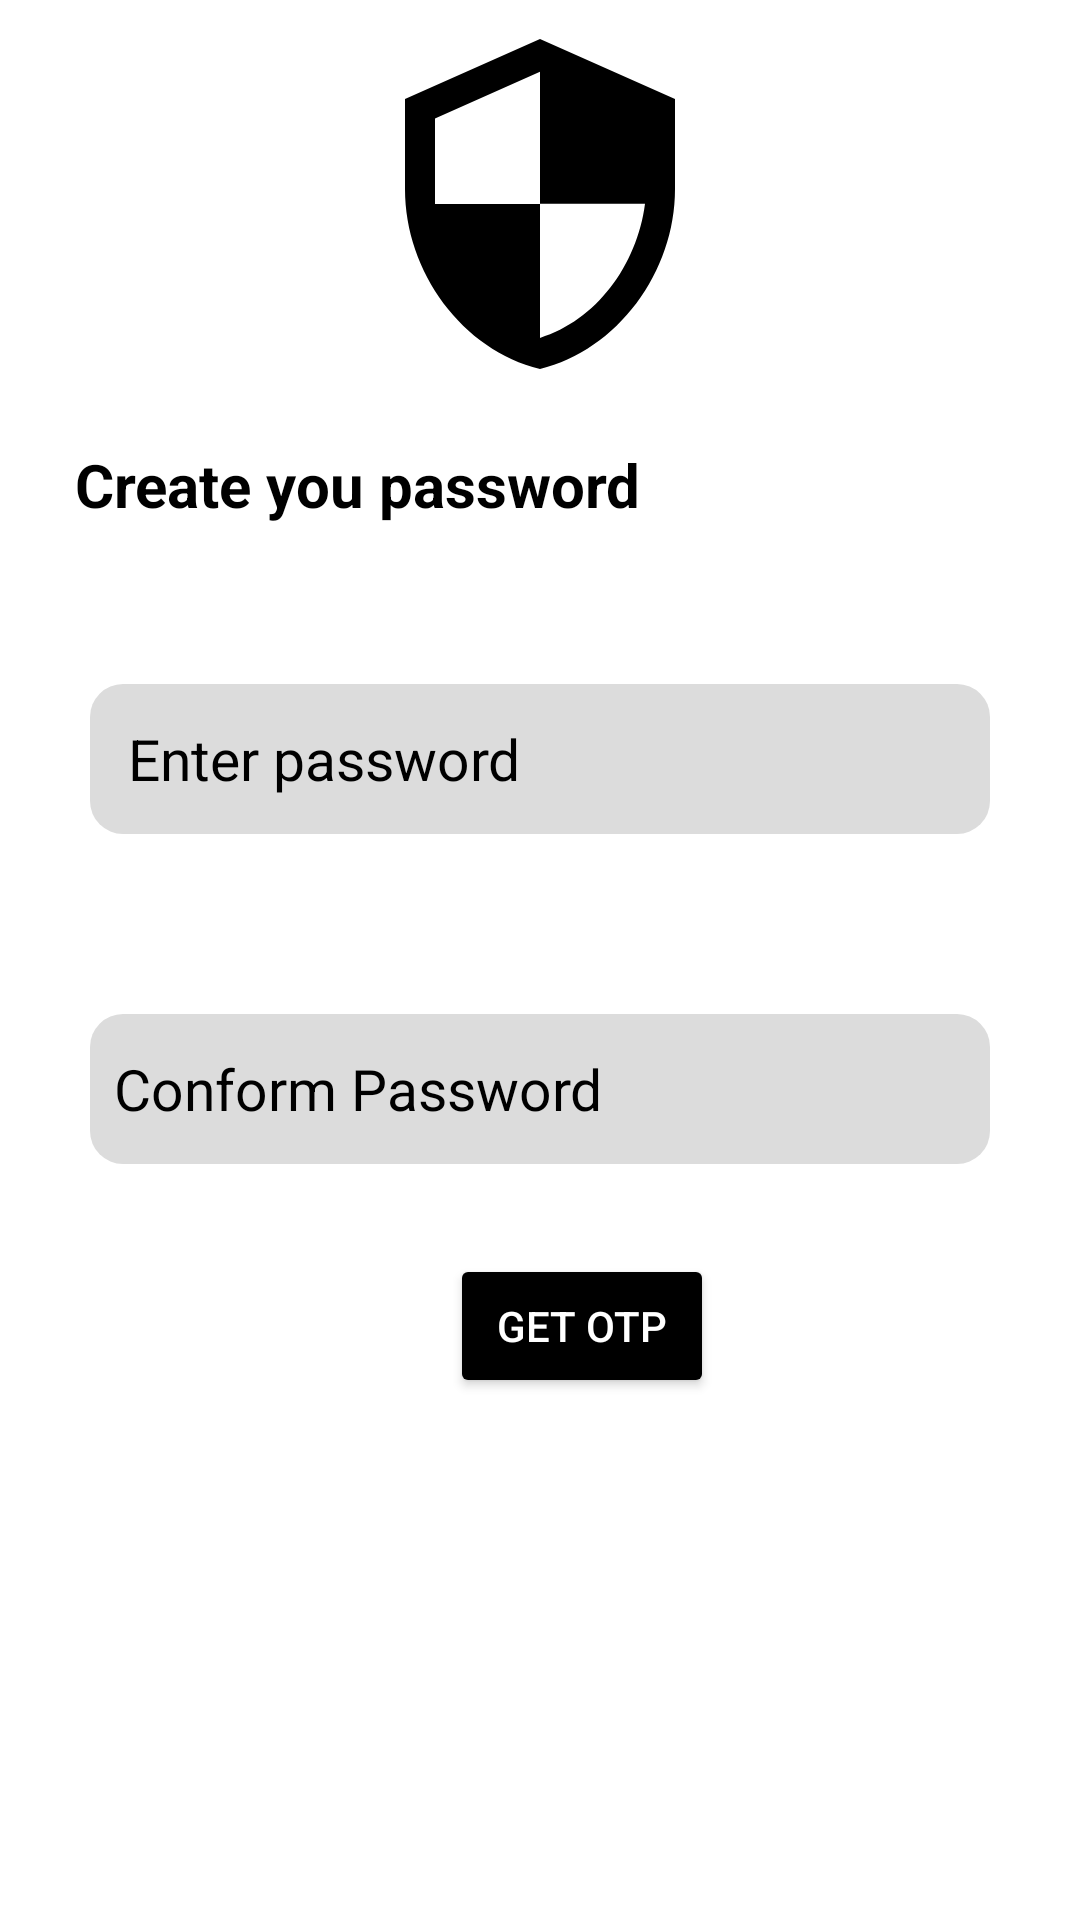

Point at icon controls on the screen. Image size 1080x1920, points as point (x, y).
security: point (540, 204)
